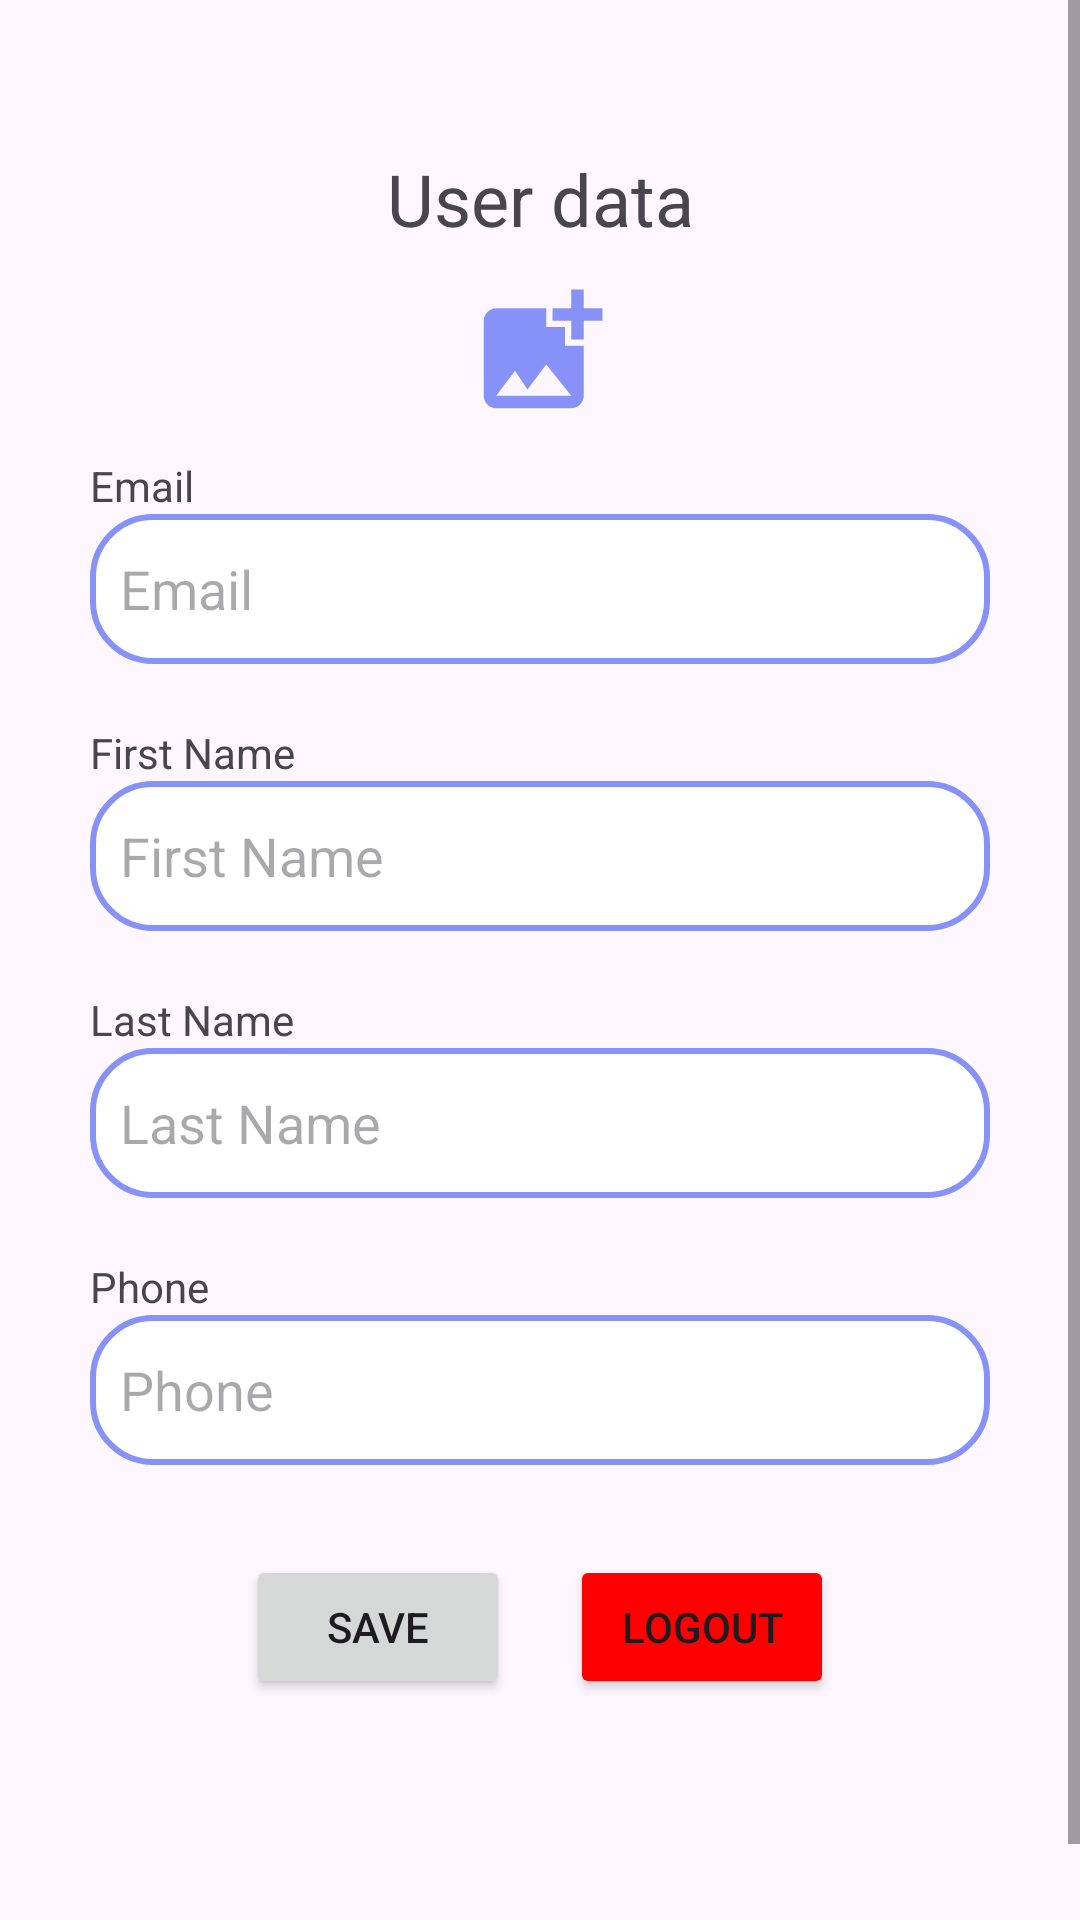

Icon click points for this 1080px×1920px phone screenshot, format [x,y]:
add photo alternate: [543,349]
